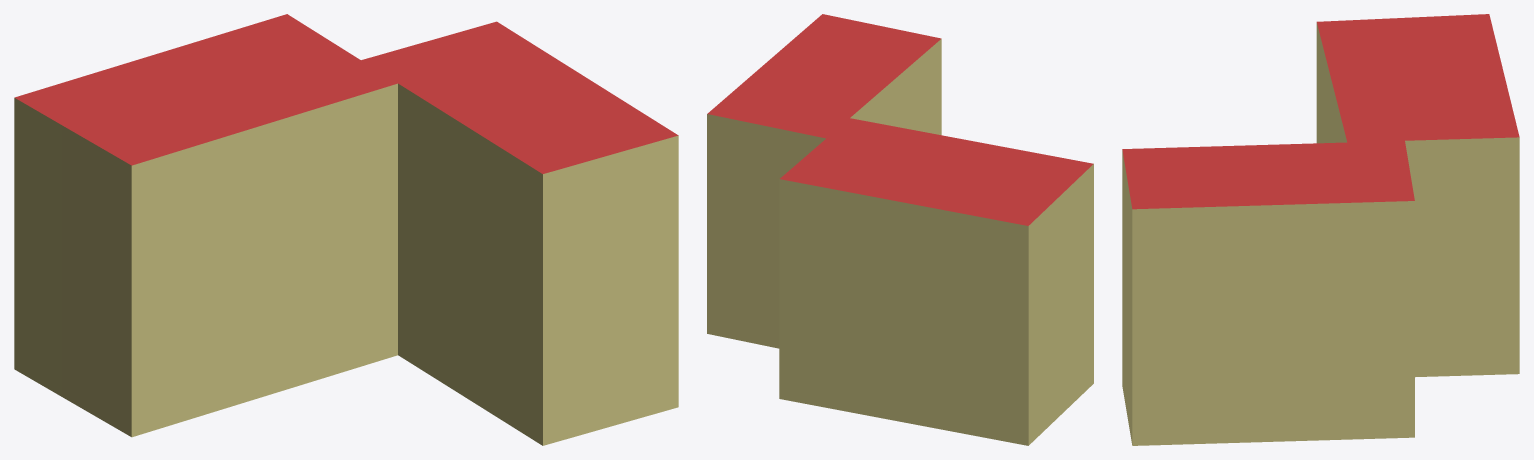
The picture shows the model from 3 angles, left to right: view 1: azimuth 30°, elevation 25°; view 2: azimuth 150°, elevation 25°; view 3: azimuth 270°, elevation 25°; orthographic projection. The views are drawn at different scales.
Parts seen in each view (by area): view 1: group_4, group_3; view 2: group_4, group_3; view 3: group_4, group_3.
Part boxes in pixels (x1=…): group_4: x1=14, y1=83, x2=678, y2=445; group_3: x1=14, y1=14, x2=678, y2=173; group_4: x1=707, y1=39, x2=1093, y2=445; group_3: x1=707, y1=14, x2=1093, y2=225; group_4: x1=1122, y1=22, x2=1519, y2=445; group_3: x1=1122, y1=14, x2=1519, y2=209.
Bounding box in the file's own units: 10.26 × 8.82 × 5.8.
